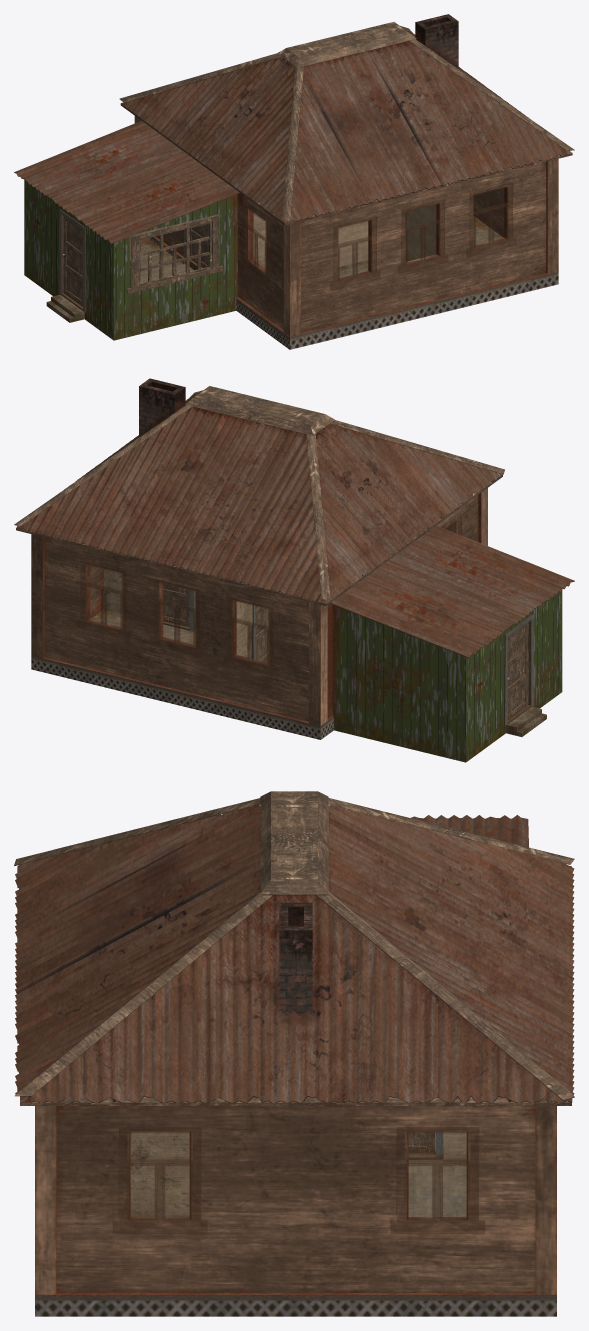
Rendered from old_russian_house.glb.
3 renders of one model, top to bottom at view 1: azimuth 30°, elevation 25°; view 2: azimuth 150°, elevation 25°; view 3: azimuth 270°, elevation 25°, orthographic. The views are drawn at different scales.
Visible parts, largest first — view 1: Object002_Shifer1_0, Box006_Dom_0, Box009, Box009_Vhod_0, Object004_Kozirek_0, Box013, Object006_Dwer1_0, Object009_Pol_0, Object013_Okno1_0, Object012_Okno1_0, Object014_Okno1_0, Box010_Truba_0 (+2 smaller); view 2: Object002_Shifer1_0, Box006_Dom_0, Box009_Vhod_0, Box009, Object004_Kozirek_0, Object006_Dwer1_0, Object017_Okno1_0, Object019_Okno1_0, Object018_Okno1_0, Box010_Truba_0, Box013, Object025_Dwer1_0 (+2 smaller); view 3: Object002_Shifer1_0, Box006_Dom_0, Object004_Kozirek_0, Box013, Object016_Okno1_0, Object015_Okno1_0, Box010_Truba_0, Object009_Pol_0, Box009, Object022_Dwer1_0.
Boxes of the visible parts, x1,y1,x2,y2 form: Object002_Shifer1_0: (122,31,570,224); Box006_Dom_0: (134,116,558,349); Box009: (14,121,239,322); Box009_Vhod_0: (24,179,237,340); Object004_Kozirek_0: (119,22,574,225); Box013: (253,204,436,268); Object006_Dwer1_0: (58,209,86,312); Object009_Pol_0: (140,216,503,283); Object013_Okno1_0: (398,199,447,273); Object012_Okno1_0: (330,216,379,290); Object014_Okno1_0: (466,183,515,257); Box010_Truba_0: (415,14,458,68); Object002_Shifer1_0: (16,396,502,602); Box006_Dom_0: (31,488,487,739); Box009_Vhod_0: (332,590,562,762); Box009: (330,525,574,736); Object004_Kozirek_0: (14,386,504,605); Object006_Dwer1_0: (504,614,533,725); Object017_Okno1_0: (224,596,276,675); Object019_Okno1_0: (77,560,130,639); Object018_Okno1_0: (150,578,203,657); Box010_Truba_0: (139,378,185,437); Box013: (104,568,252,658); Object025_Dwer1_0: (163,583,193,631); Object002_Shifer1_0: (15,805,574,1102); Box006_Dom_0: (35,1106,556,1316); Object004_Kozirek_0: (14,791,574,1105); Box013: (130,1131,466,1214); Object016_Okno1_0: (390,1127,484,1233); Object015_Okno1_0: (112,1127,207,1233); Box010_Truba_0: (279,902,312,1015); Object009_Pol_0: (130,1132,466,1216); Box009: (386,815,528,847); Object022_Dwer1_0: (408,1131,443,1159).
Bounding box in the file's own units: 10918 × 5514 × 7561.
10 materials, 10 textured.
